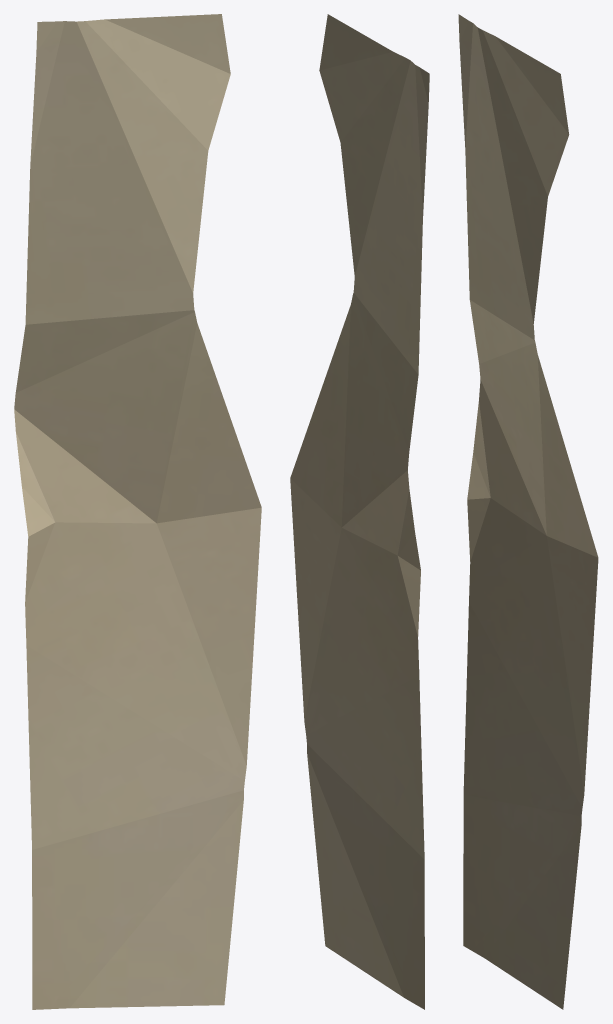
The picture shows the model from 3 angles, left to right: view 1: azimuth 30°, elevation 25°; view 2: azimuth 150°, elevation 25°; view 3: azimuth 330°, elevation 25°; orthographic projection. The views are drawn at different scales.
Size of the model in its own units: 0.3294 by 1.67 by 0.1875.
1 material, 1 textured.
